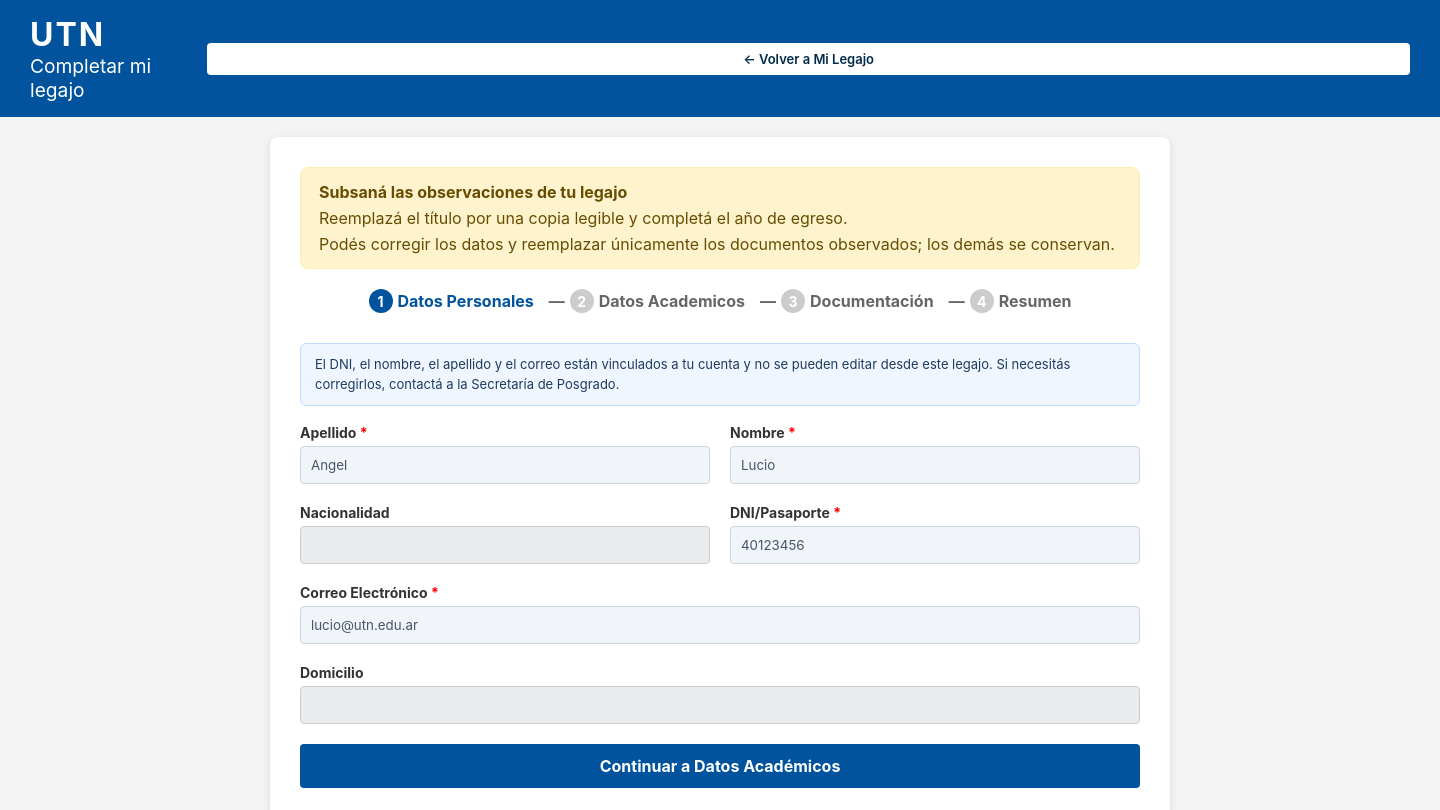
Preinscripcion Component › permite subsanar una observación, reemplazar un documento y reenviar el mismo legajo
Later steps or results of the test are not shown.
Expected: the text "Reemplazá el título por una copia legible" is shown, 319,208 -> 848,228
Click the button "Continuar a Datos Académicos" at (720, 766), box 300,744 -> 1140,788
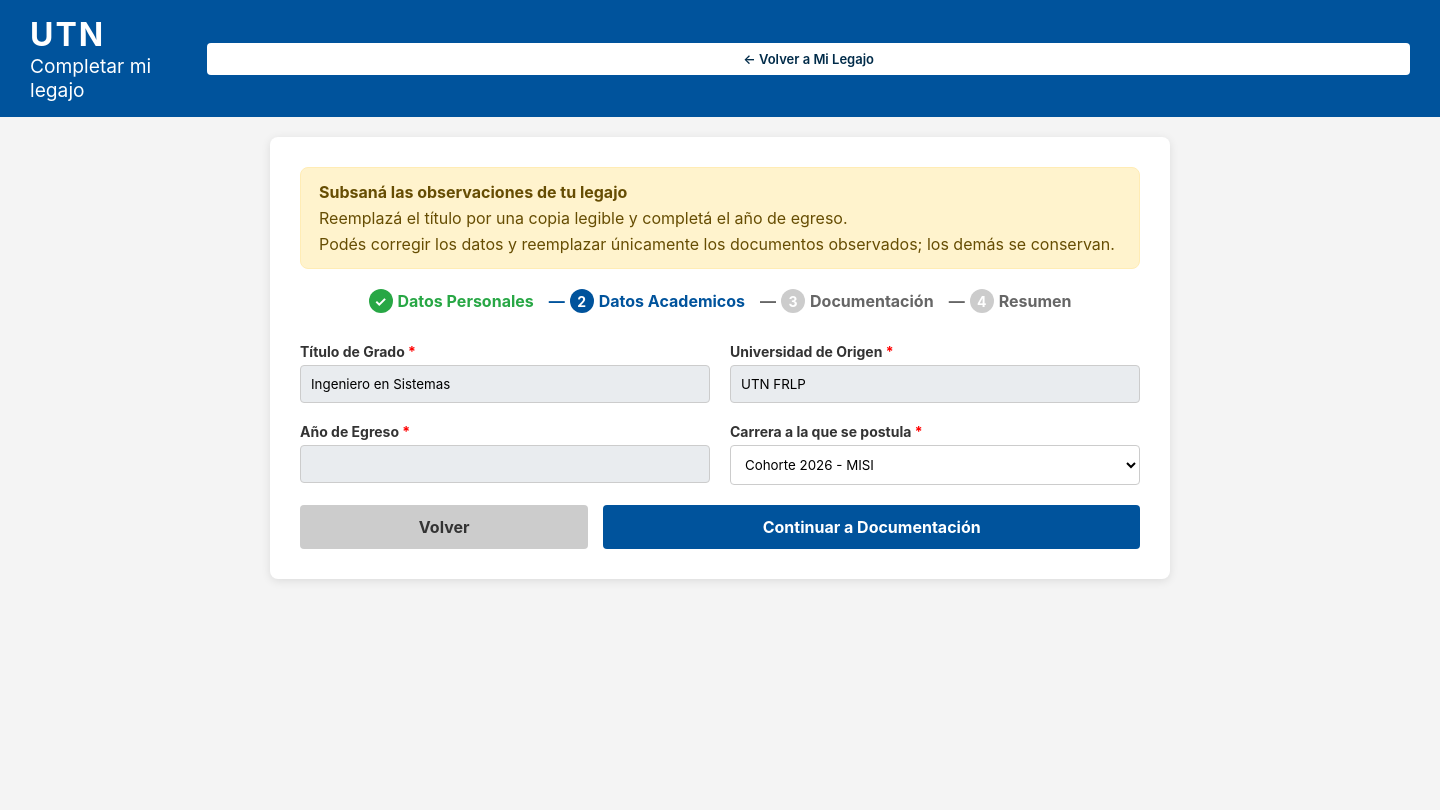
Now the number field named "anioEgreso" is shown
Type "2025" into the number field named "anioEgreso" at (505, 464), box 300,445 -> 710,483
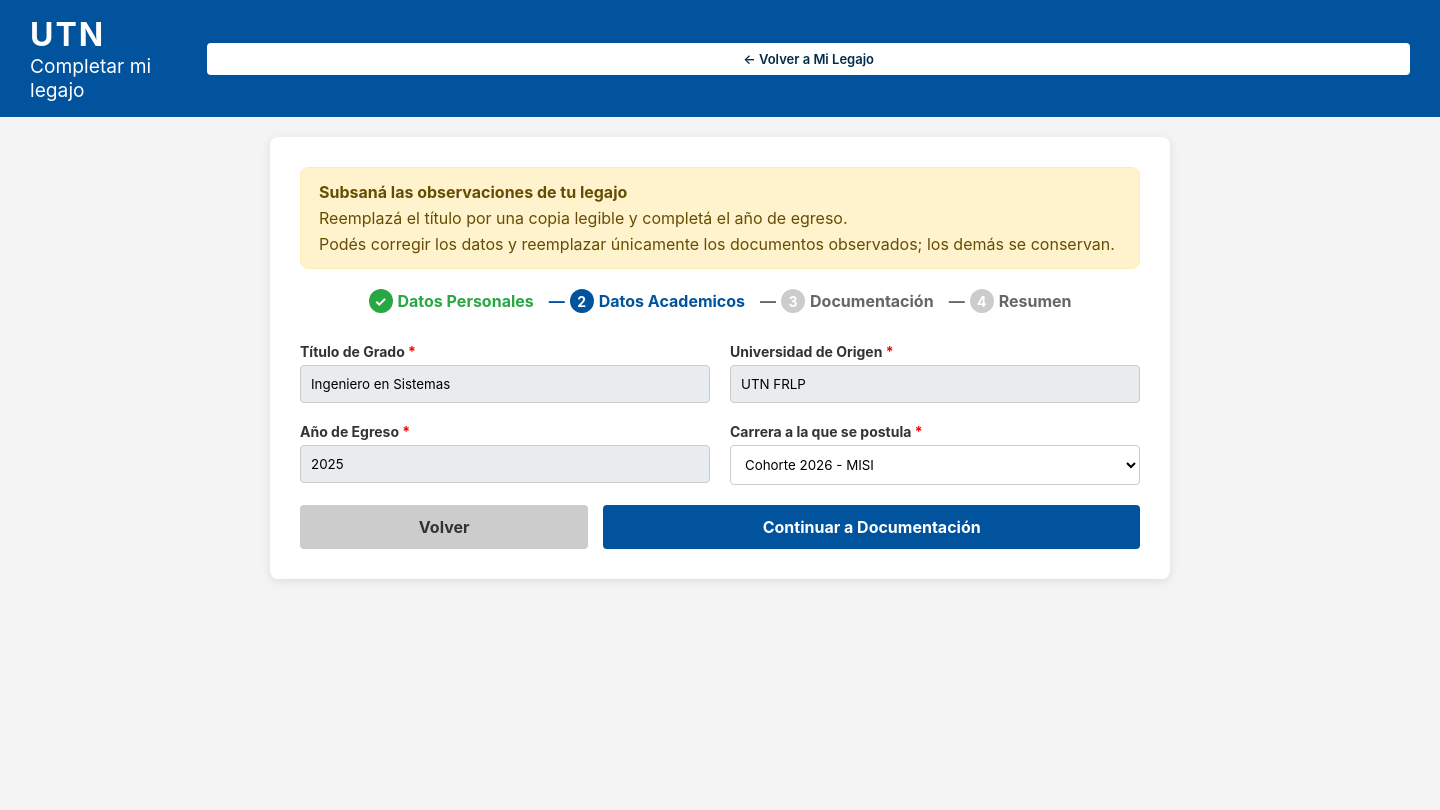
Click the button "Continuar a Documentación" at (872, 527), box 603,505 -> 1140,549
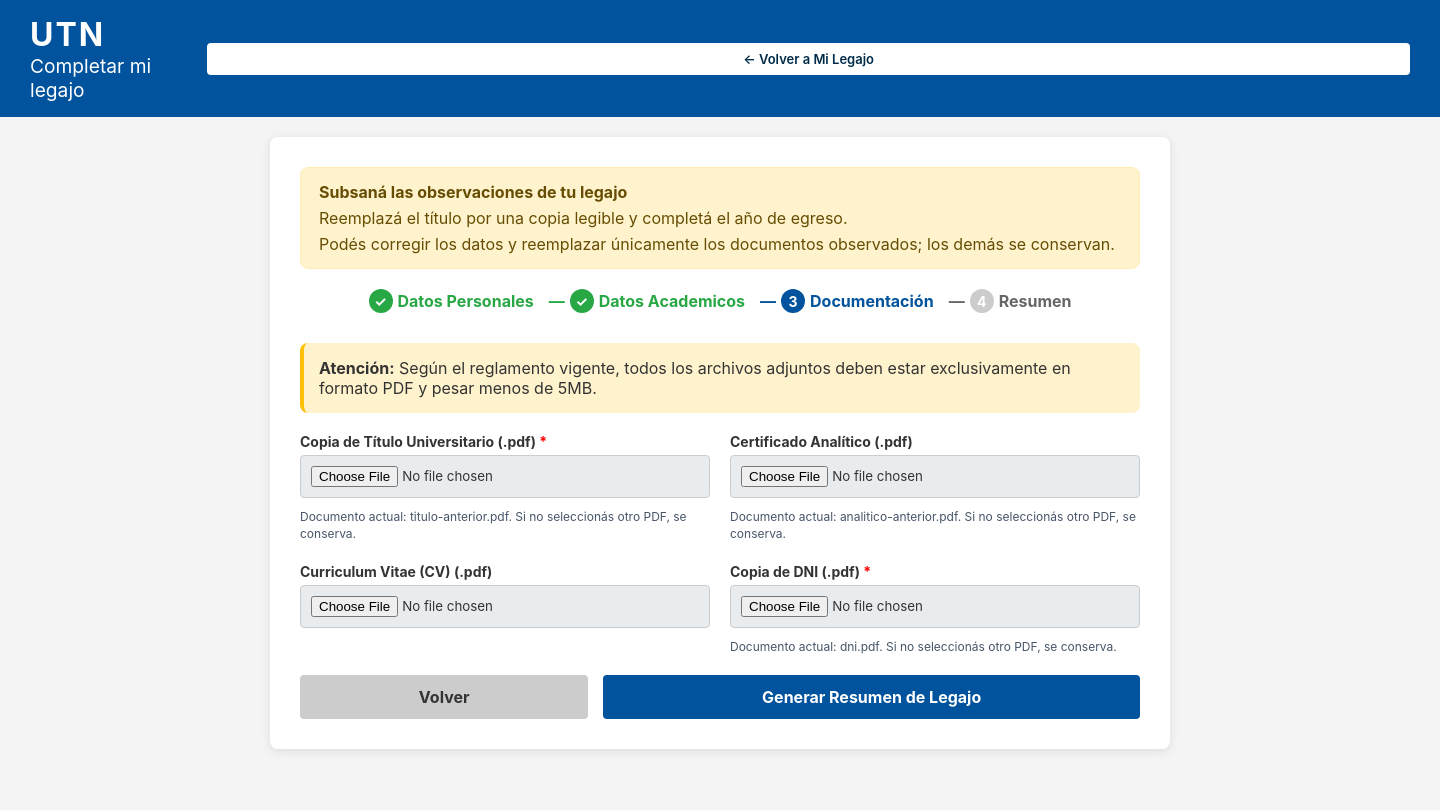
Now the text "Documento actual: titulo-anterior.pdf" is shown, box 300,508 -> 710,543
Now the text "Documento actual: analitico-anterior.pdf" is shown, box 730,508 -> 1140,543
